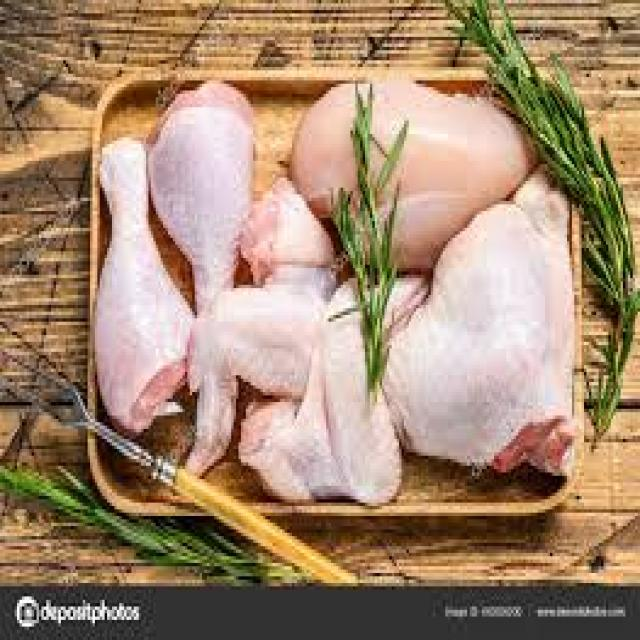Chicken: (287, 77, 521, 266), (78, 132, 199, 440), (139, 80, 255, 324), (176, 276, 321, 464)
